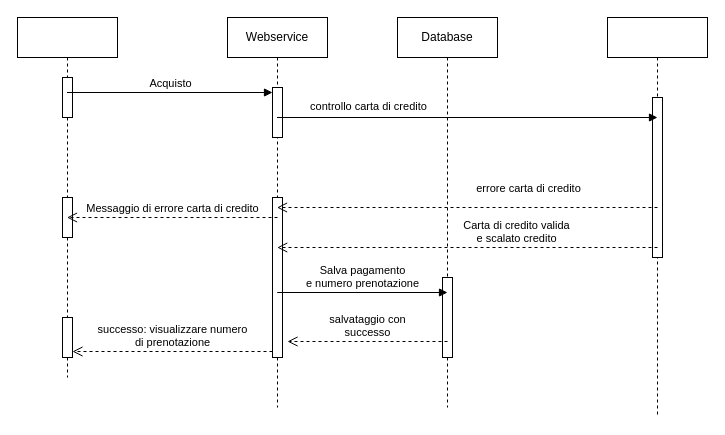
Some shapes in this 725 by 435 pixel diagram are drawn without their labels. The box of each missing label's shape, as (x1, y1, x2, y2) in pixels:
Banca: (606, 16, 708, 418)
User: (16, 16, 118, 378)
